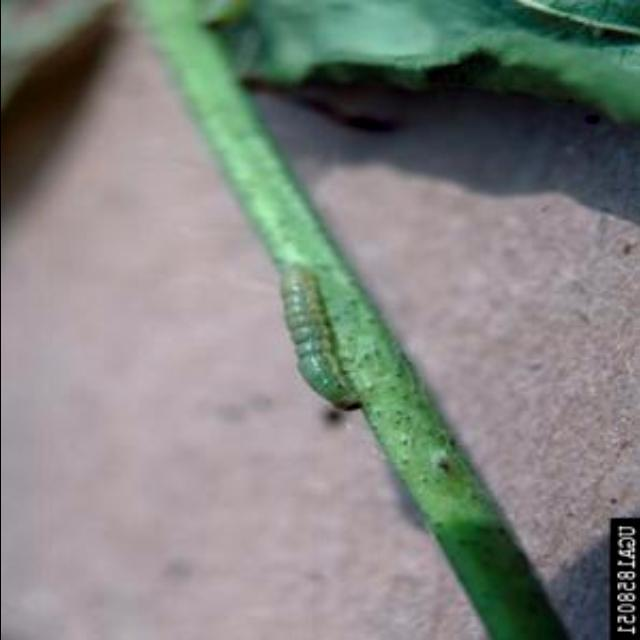Beet armyworm: (254, 225, 398, 430)
